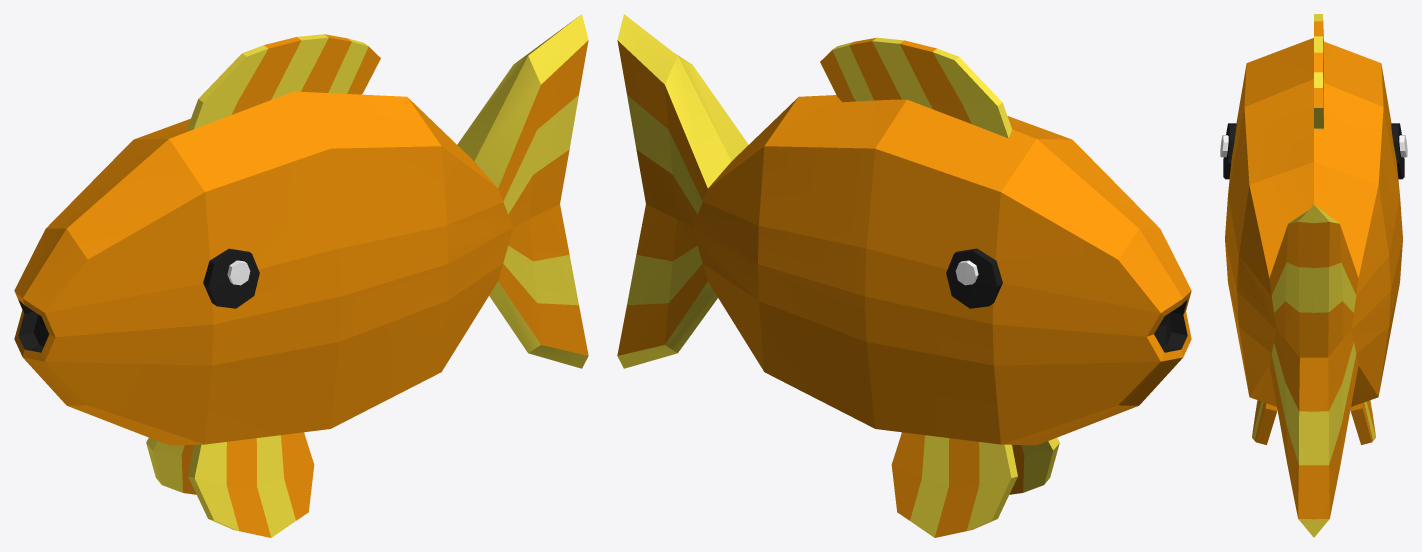
The model's file is fish_02.obj.
The picture shows the model from 3 angles, left to right: view 1: azimuth 30°, elevation 25°; view 2: azimuth 150°, elevation 25°; view 3: azimuth 270°, elevation 25°; orthographic projection. The views are drawn at different scales.
Visible parts, largest first — view 1: fish_01_Cube.003; view 2: fish_01_Cube.003; view 3: fish_01_Cube.003.
Part boxes in pixels (x1,y1,x2,y2): fish_01_Cube.003: [14, 14, 588, 537]; fish_01_Cube.003: [617, 14, 1191, 537]; fish_01_Cube.003: [1220, 14, 1407, 537].
Size of the model in its own units: 251 by 197 by 77.36.
